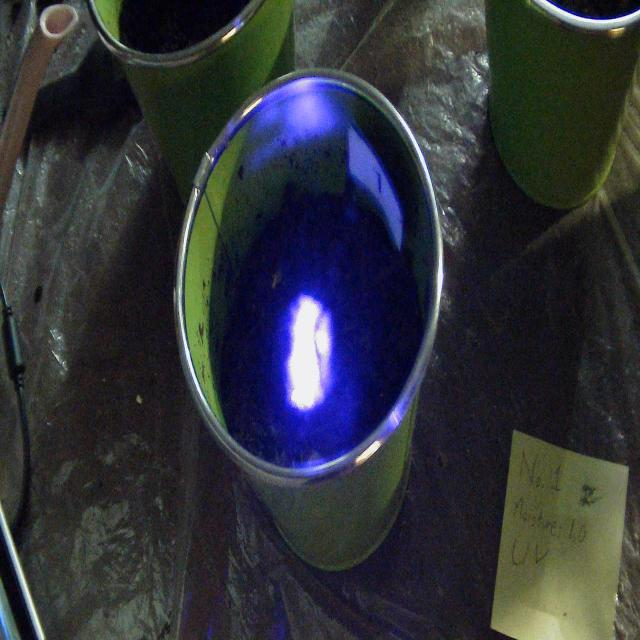soil-moisture-1.0: (285, 295, 333, 417)
